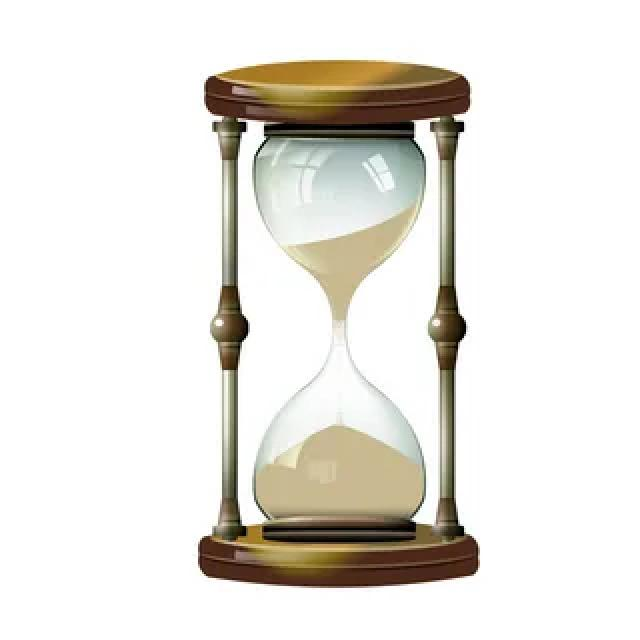clock: (198, 51, 490, 592)
